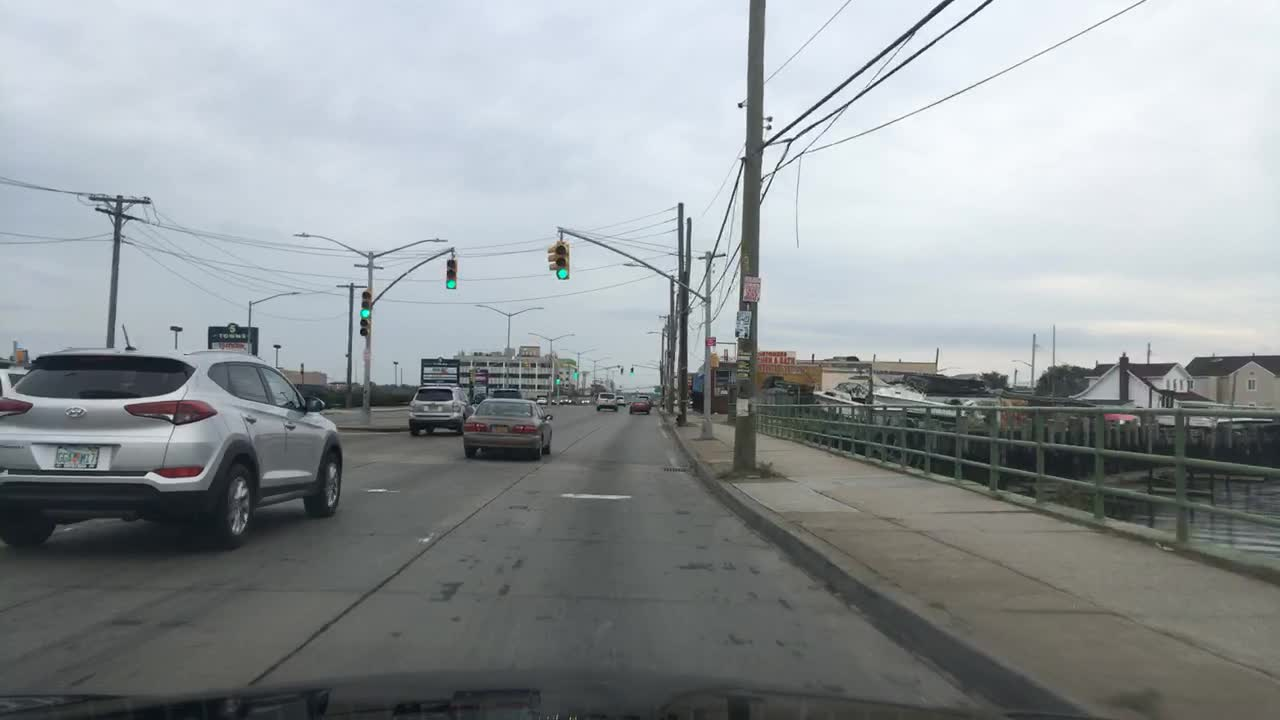car: (0, 350, 343, 549), (460, 396, 551, 458), (405, 385, 471, 436), (1, 364, 36, 403), (596, 391, 619, 411), (493, 388, 523, 400), (628, 399, 649, 415), (465, 402, 480, 417), (535, 394, 547, 404), (616, 395, 626, 406), (559, 394, 571, 403), (638, 394, 650, 401), (551, 398, 559, 405)
traffic light: (555, 240, 568, 277), (360, 288, 369, 336), (445, 258, 457, 287), (547, 246, 556, 271), (555, 373, 559, 384), (619, 367, 623, 375), (630, 367, 633, 373)
traffic sign: (209, 322, 257, 354), (421, 358, 458, 382), (732, 310, 749, 338), (741, 275, 760, 300), (706, 336, 716, 344)
